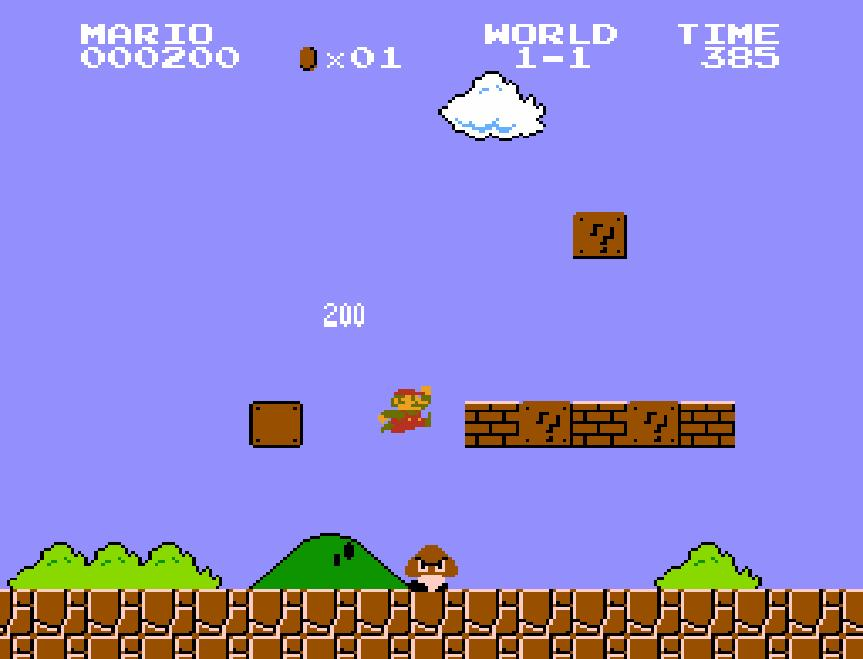little_mario: (376, 384, 434, 434)
